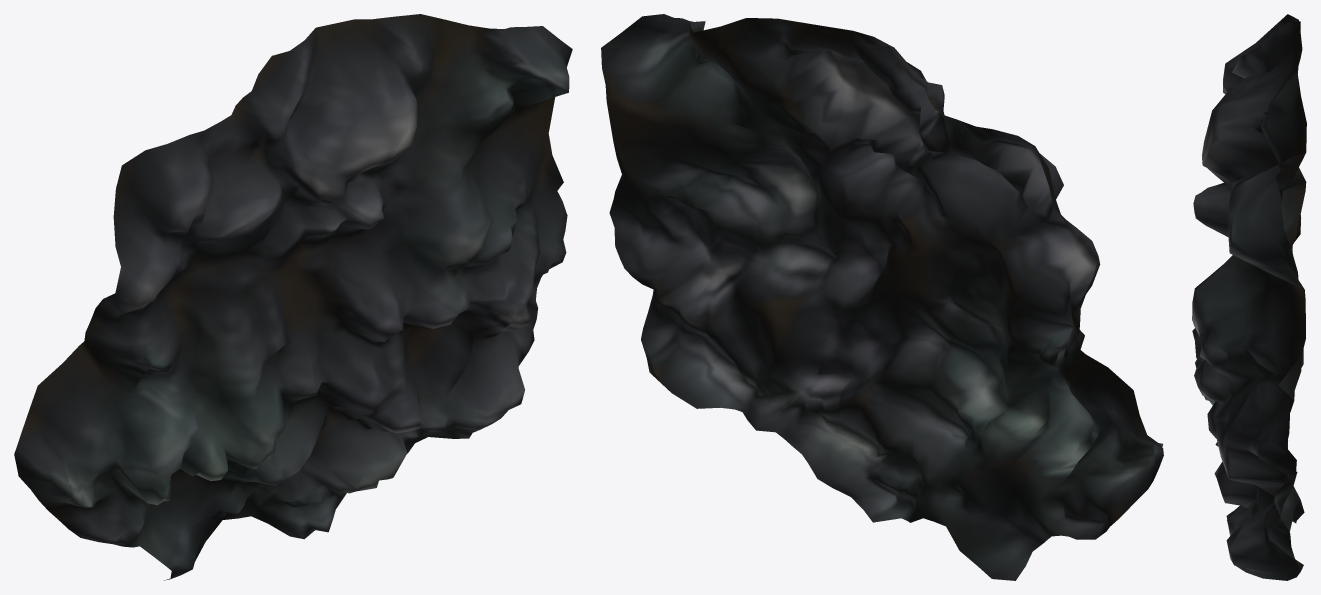
The model's file is Mussels01.fbx.
The picture shows the model from 3 angles, left to right: view 1: azimuth 30°, elevation 25°; view 2: azimuth 150°, elevation 25°; view 3: azimuth 270°, elevation 25°; orthographic projection. The views are drawn at different scales.
Visible parts, largest first — view 1: Mussels01; view 2: Mussels01; view 3: Mussels01.
Boxes of the visible parts, x1=… form: Mussels01: x1=14, y1=14, x2=572, y2=580; Mussels01: x1=601, y1=14, x2=1163, y2=580; Mussels01: x1=1192, y1=14, x2=1306, y2=580.
Bounding box in the file's own units: 66.26 × 58.14 × 10.56.
